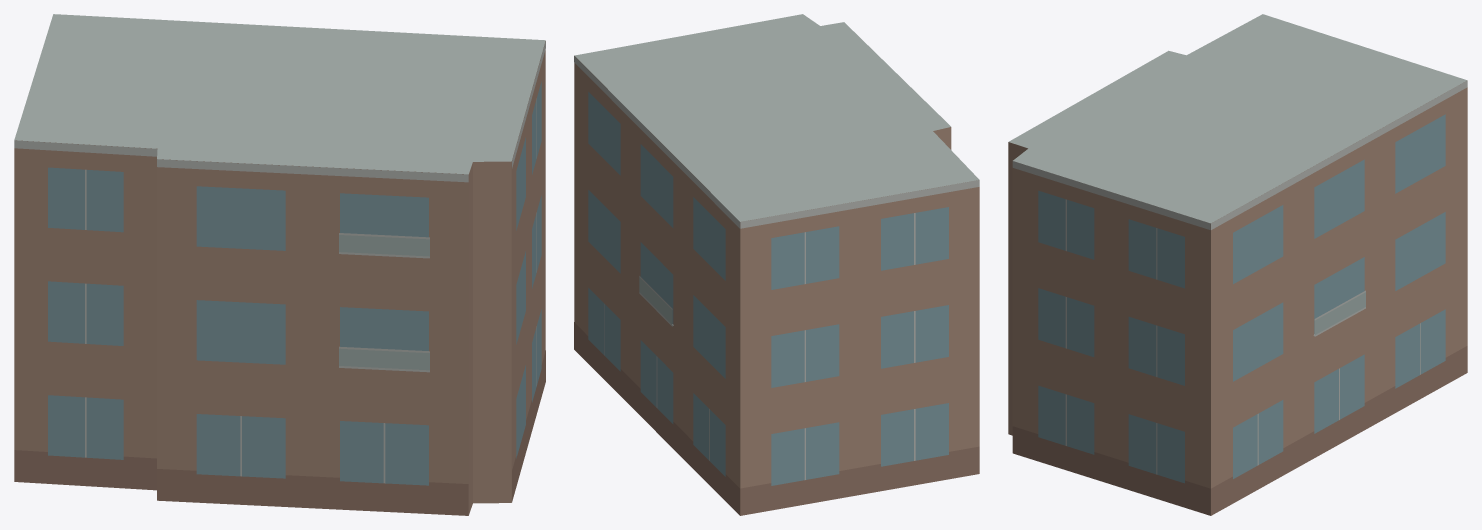
File: survey-upis-32866785.glb
3 views of the same model, side by side, from view 1: azimuth 30°, elevation 25°; view 2: azimuth 150°, elevation 25°; view 3: azimuth 270°, elevation 25° (orthographic). The views are drawn at different scales.
Parts seen in each view (by area): view 1: survey-upis-32866785.tmp; view 2: survey-upis-32866785.tmp; view 3: survey-upis-32866785.tmp.
Part boxes in pixels (box(x1,y1,x2,y2)): survey-upis-32866785.tmp: box(14, 14, 545, 515); survey-upis-32866785.tmp: box(574, 14, 979, 515); survey-upis-32866785.tmp: box(1008, 14, 1467, 515).
Size of the model in its own units: 15.98 by 10.4 by 14.81.
